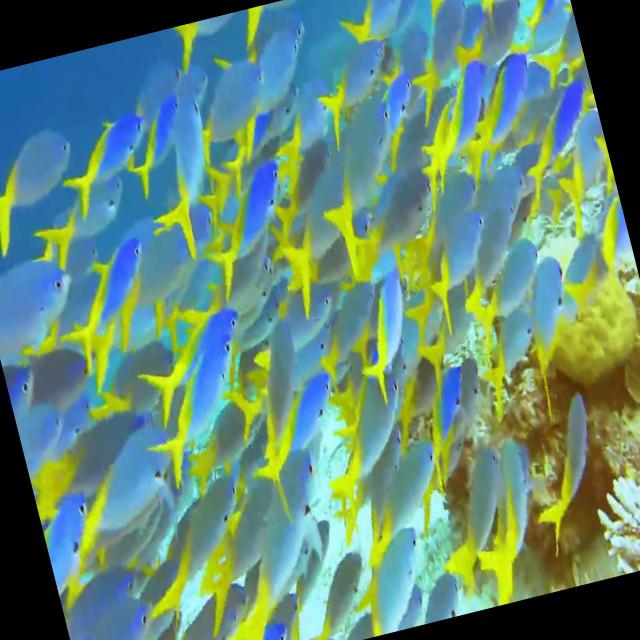fish: (218, 320, 336, 524), (300, 88, 428, 271), (134, 326, 263, 494), (454, 434, 556, 607), (422, 430, 528, 594), (190, 154, 306, 294), (516, 388, 618, 544), (444, 47, 558, 181), (137, 90, 232, 250), (52, 236, 167, 360), (0, 122, 94, 264), (50, 106, 162, 215), (442, 197, 537, 316), (452, 234, 556, 341), (344, 268, 426, 393)
